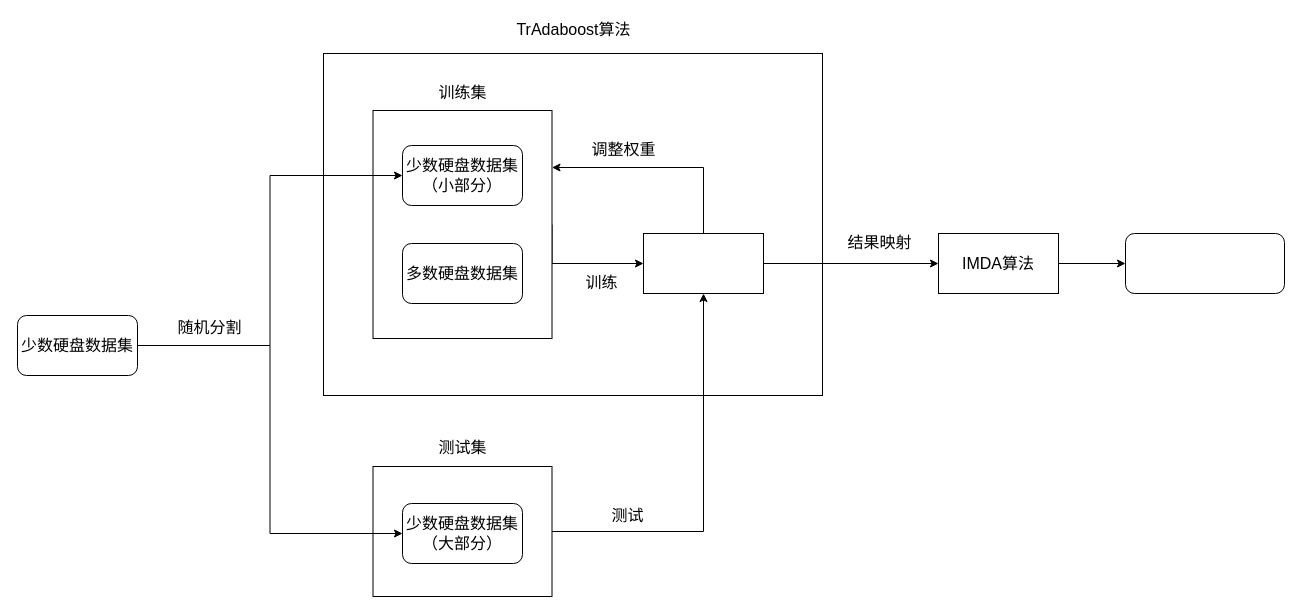
The diagram is 1302 pixels wide and 614 high, and some of its shapes have lost their labels. The centre of each missing label's shape, as x and y in pixels:
硬盘故障预测结果: the point at 1204,263
预测模型: the point at 703,263
